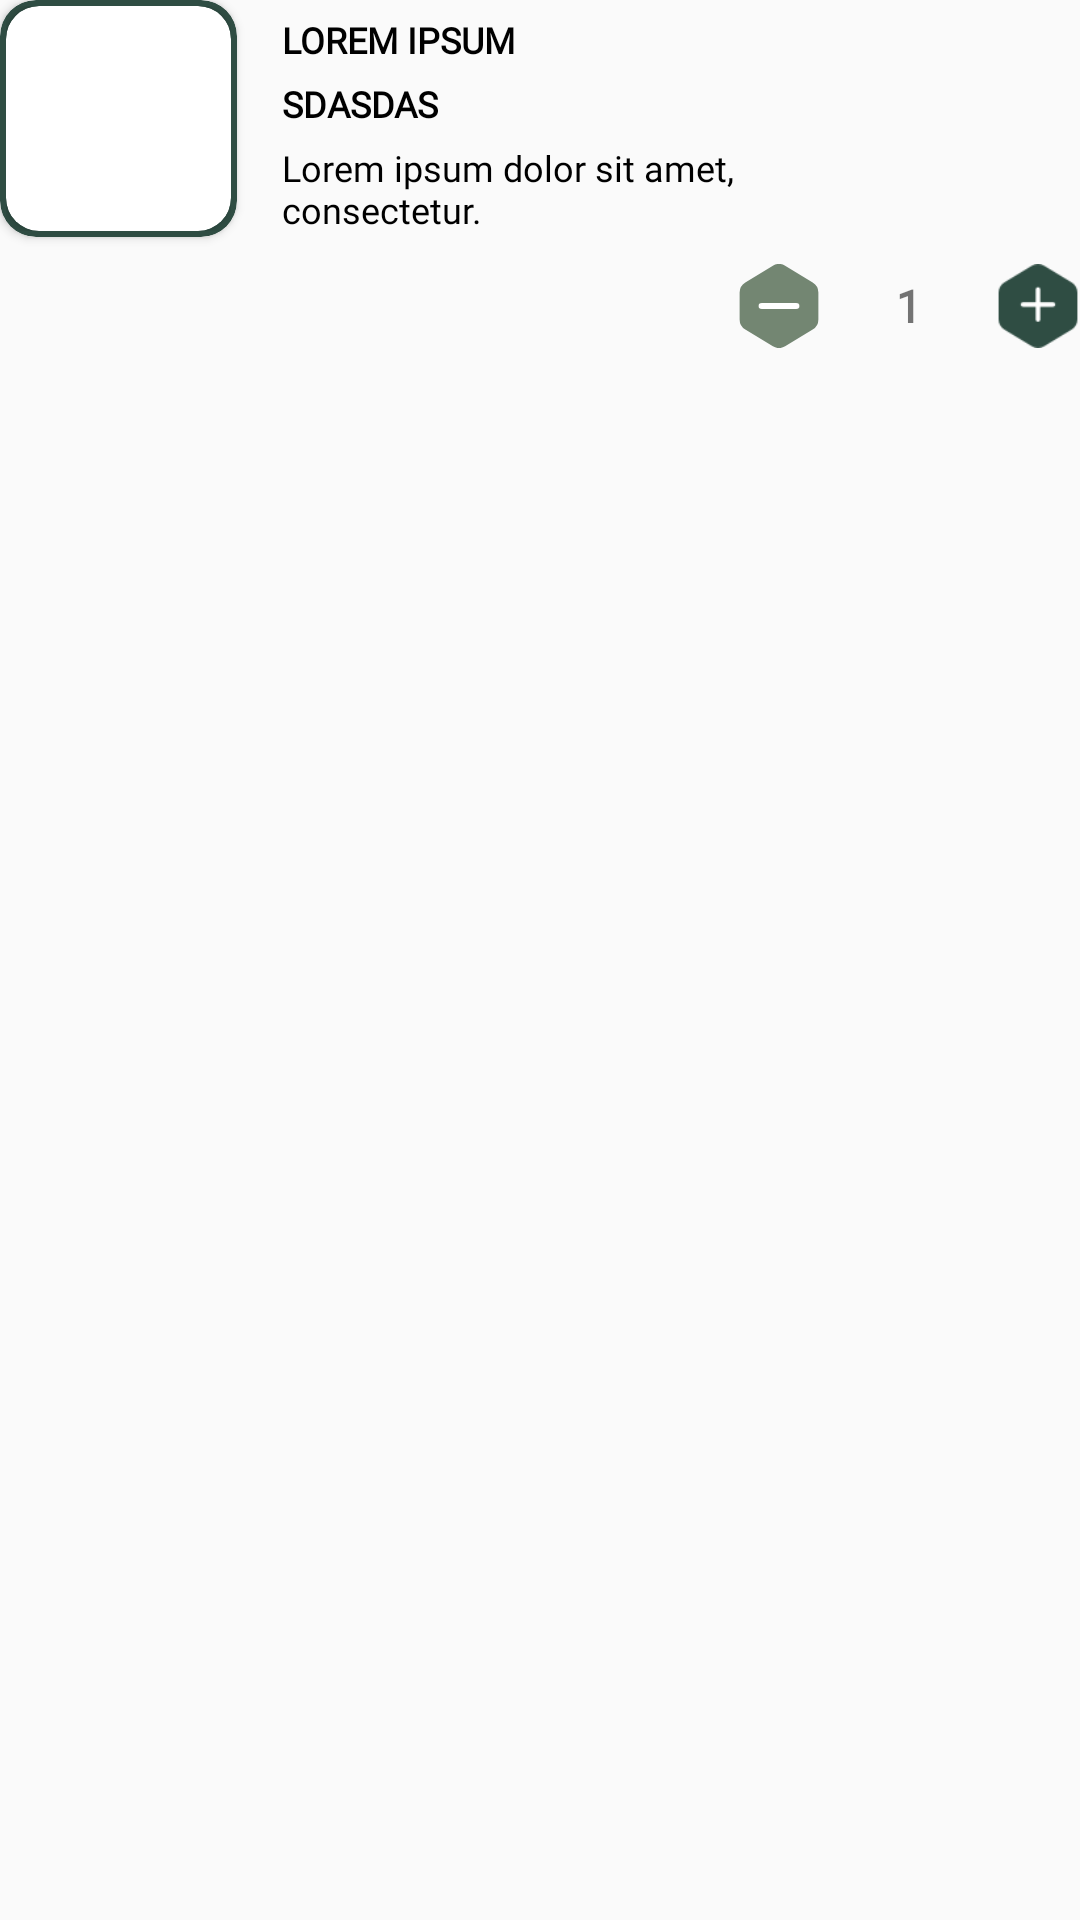

Where icons sit on this 1080w x 1920h app screen, as (left=x1, top=y1, right=x2, bottom=y2):
add: (left=998, top=264, right=1078, bottom=348)
deduct: (left=739, top=264, right=819, bottom=348)
